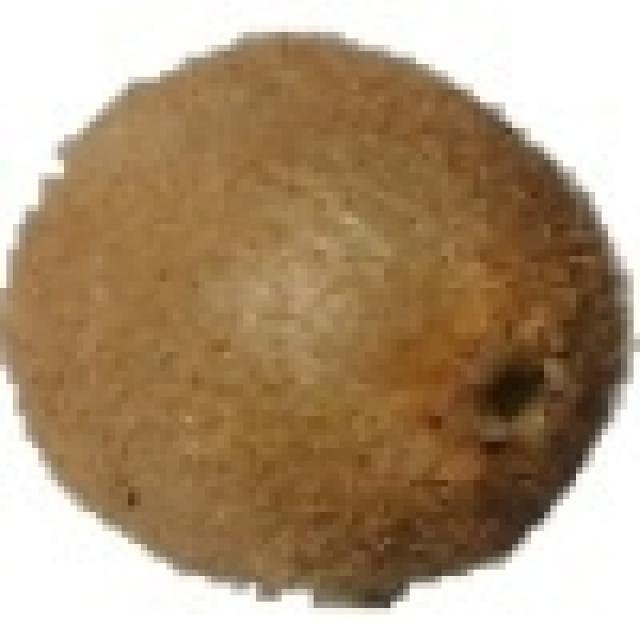kiwi: (11, 28, 619, 592)
